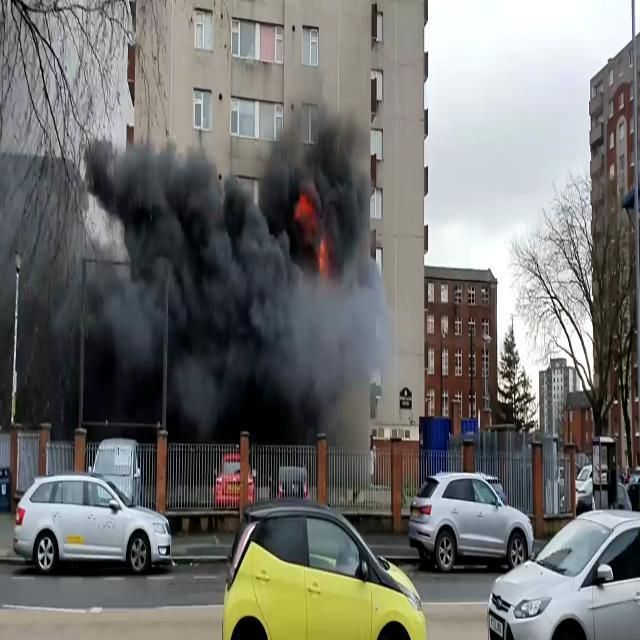Fire: (312, 232, 337, 290), (289, 192, 319, 226)
Smoke: (7, 77, 413, 446)
